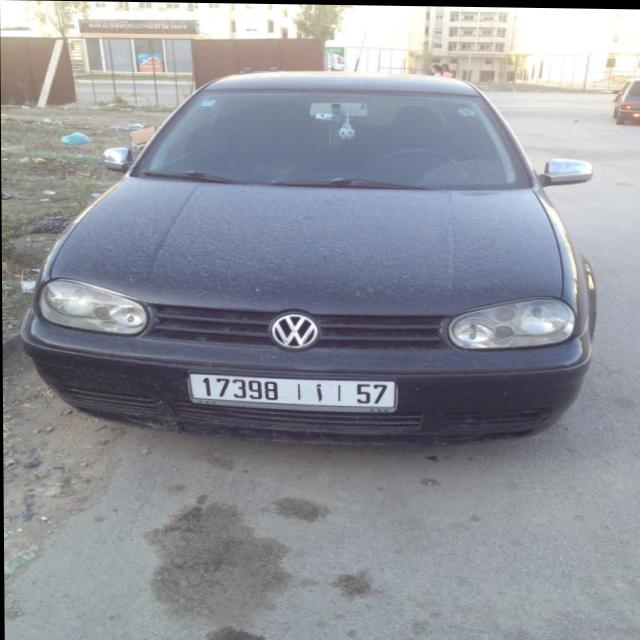License-Plate: (187, 373, 396, 410)
